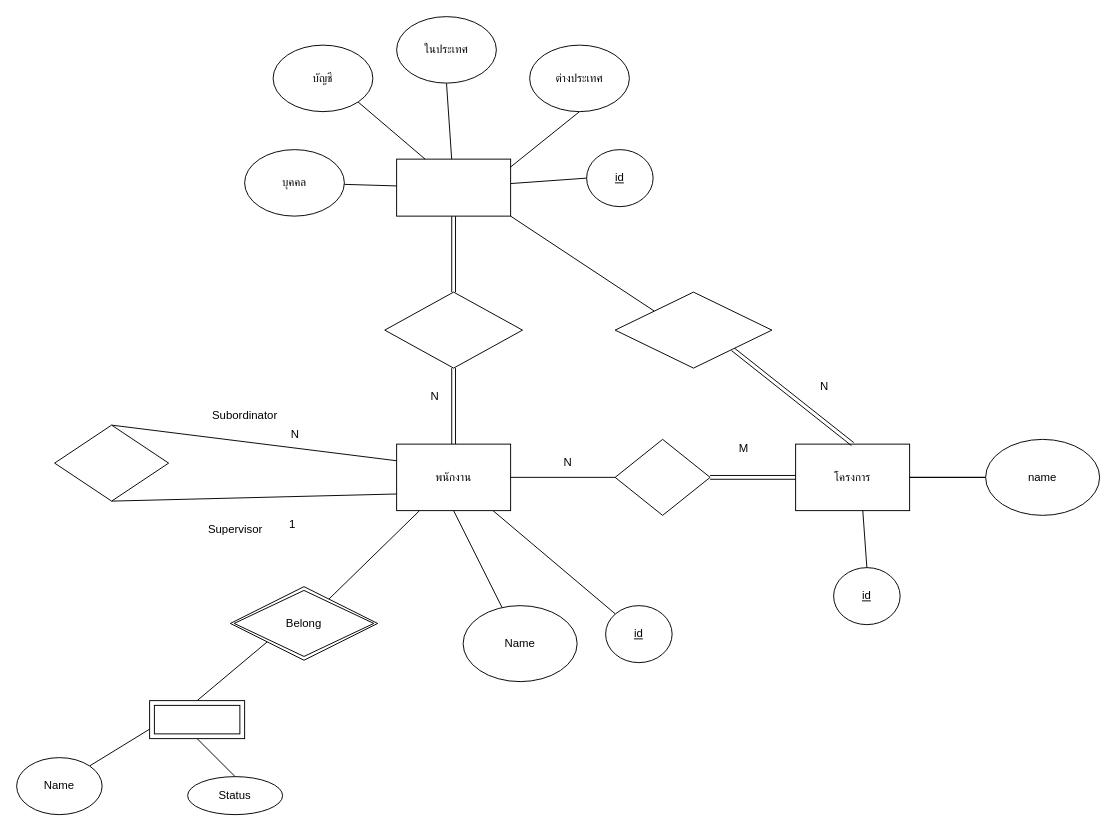
The diagram is 1116 pixels wide and 831 high, and some of its shapes have lost their labels. The shapes that lost their labels are listed below. From the top down, each one's box as (x1, y1, x2, y2) in pixels, then its label:
(396, 158, 511, 216): แผนก
(384, 291, 522, 368): สังกัด
(614, 291, 772, 368): IN
(54, 424, 169, 501): report_to
(614, 438, 710, 515): รับผิดชอบ
(149, 700, 245, 739): Family
